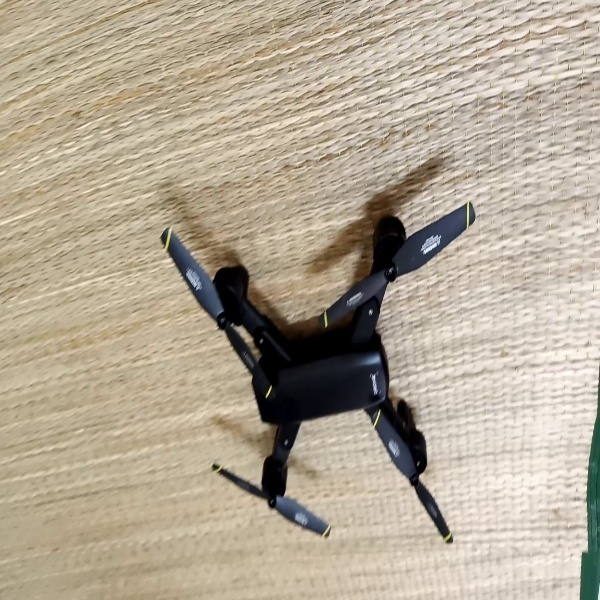drone: (160, 195, 480, 550)
